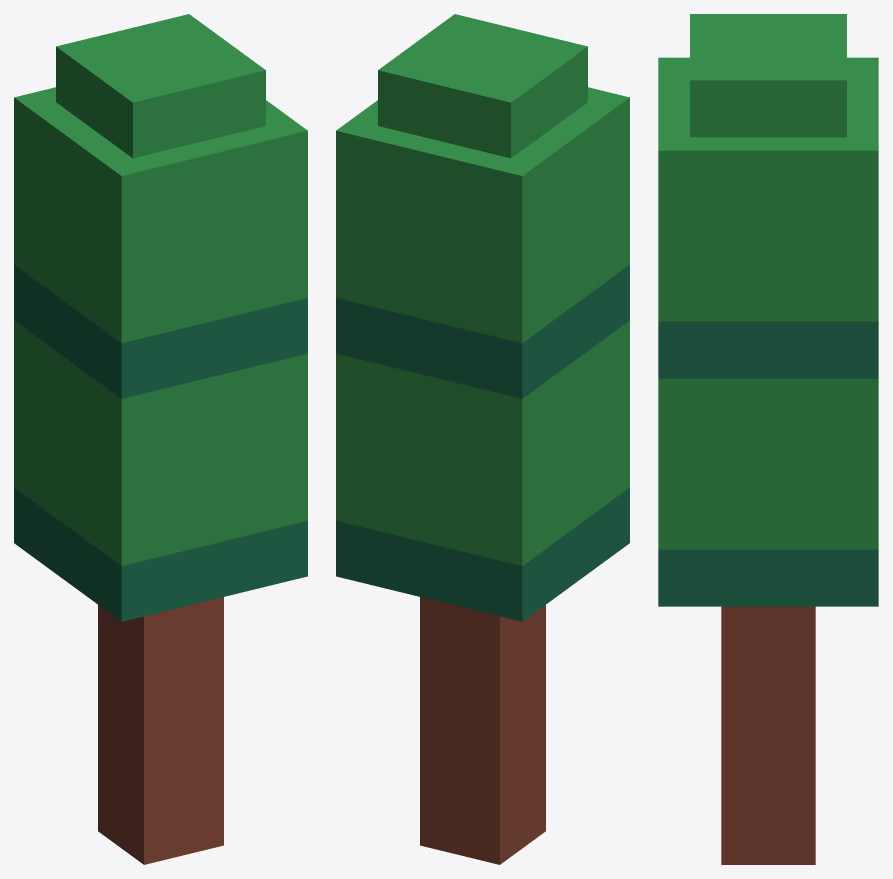
File: Buildings Final For Import-9.obj
3 renders of one model, left to right at view 1: azimuth 30°, elevation 25°; view 2: azimuth 150°, elevation 25°; view 3: azimuth 270°, elevation 25°, orthographic. The views are drawn at different scales.
Size of the model in its own units: 0.7 by 2.8 by 0.7.
Materials: 1 (1 with a texture image).
